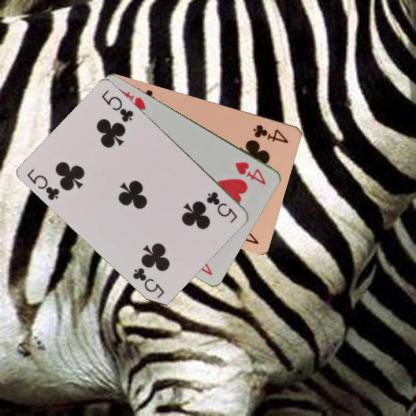4c: (251, 121, 290, 144)
4h: (232, 159, 268, 186)
5c: (25, 166, 61, 202), (204, 189, 239, 224)
